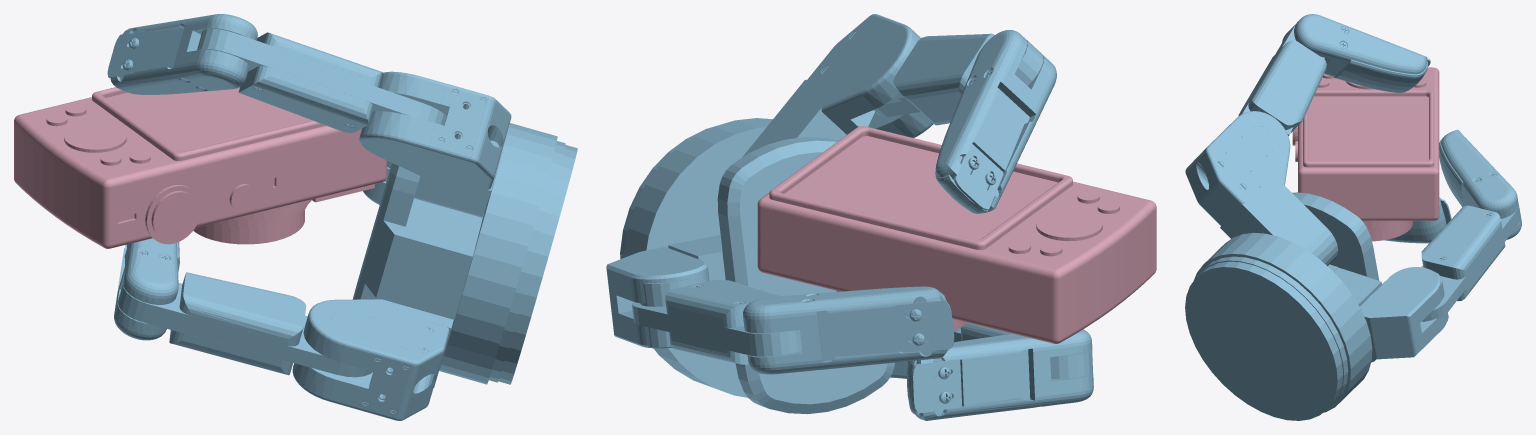
3 renders of one model, left to right at view 1: azimuth 30°, elevation 25°; view 2: azimuth 150°, elevation 25°; view 3: azimuth 270°, elevation 25°, orthographic. The views are drawn at different scales.
Parts seen in each view (by area): view 1: world; view 2: world; view 3: world.
Boxes of the visible parts, x1=… form: world: x1=14, y1=14, x2=577, y2=420; world: x1=606, y1=14, x2=1156, y2=420; world: x1=1185, y1=14, x2=1521, y2=420.
Size of the model in its own units: 0.1933 by 0.154 by 0.154.
